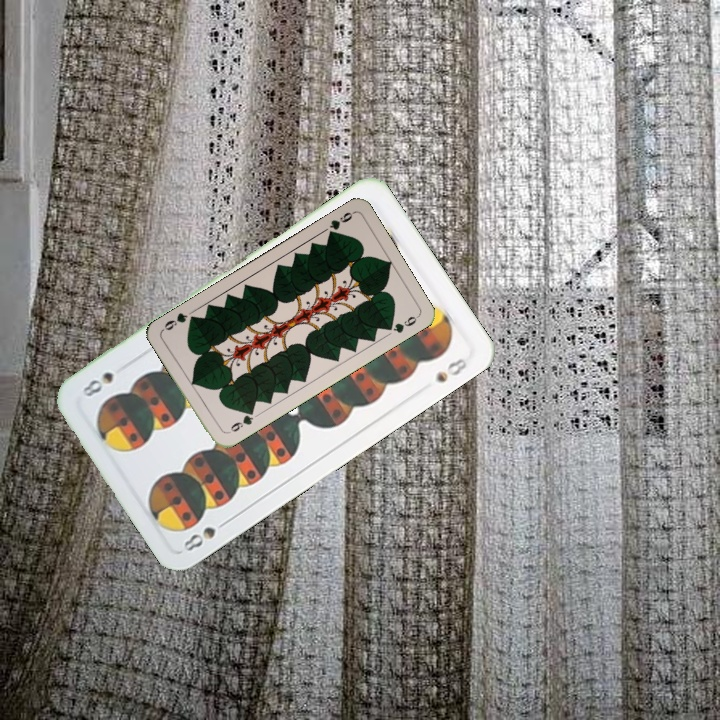G9: (324, 208, 356, 240), (223, 406, 256, 436)
S8: (179, 515, 232, 554)
